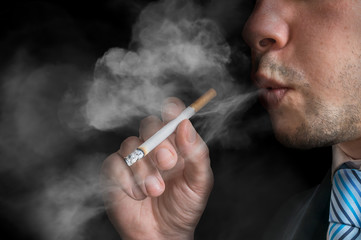cigarette: (120, 86, 222, 169)
